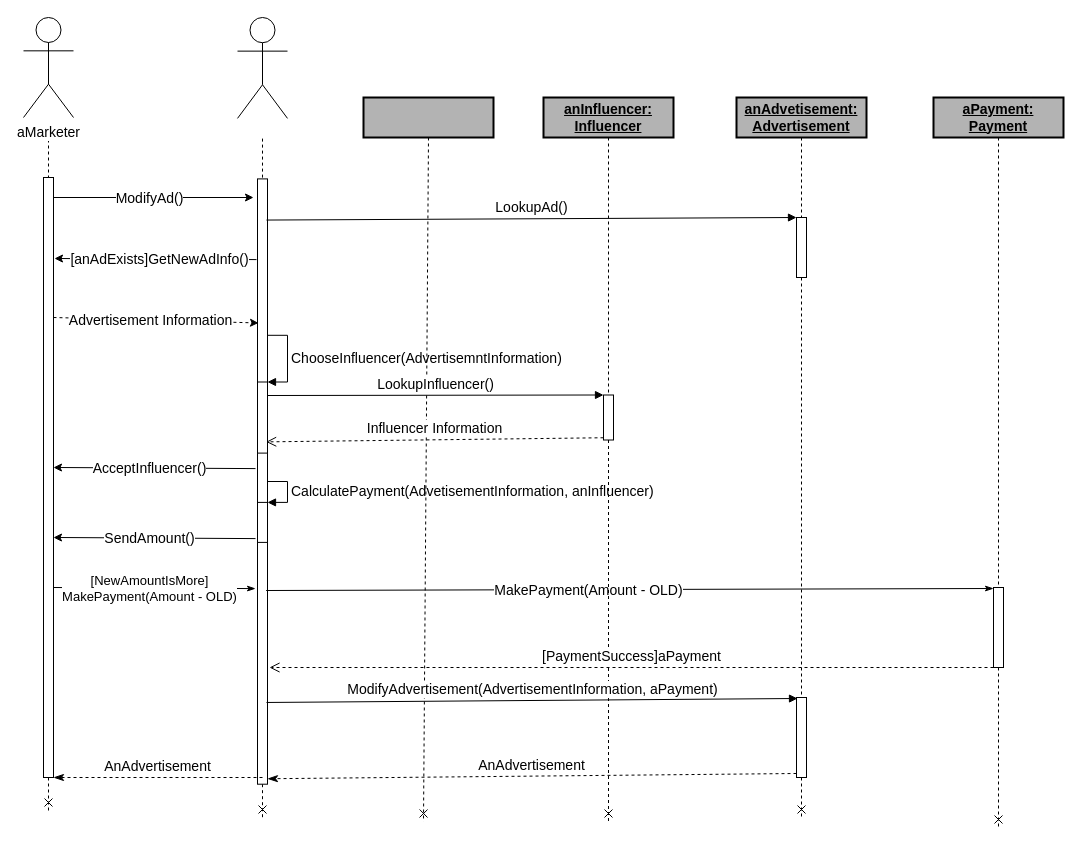
Image size: 1082x853. Some labels were removed from this diagram. Each missing label, with the centre of its shape:
"aMarketer: Marketer" goes at (428,117).
"Request Management System" goes at (262,67).
